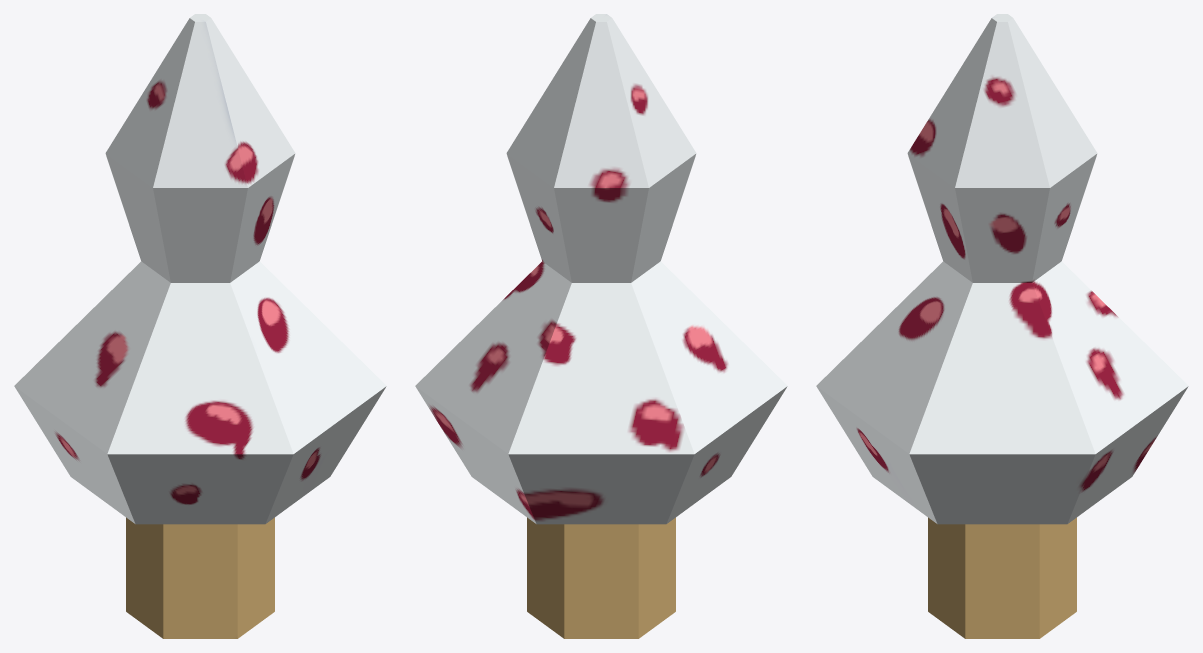
The model's file is Congumelo 2.fbx.
The picture shows the model from 3 angles, left to right: view 1: azimuth 30°, elevation 25°; view 2: azimuth 150°, elevation 25°; view 3: azimuth 270°, elevation 25°; orthographic projection.
Visible parts, largest first — view 1: 5. Mushroom 2; view 2: 5. Mushroom 2; view 3: 5. Mushroom 2.
Boxes of the visible parts, box(x1,y1,x2,y2) form: 5. Mushroom 2: box(14, 14, 386, 638); 5. Mushroom 2: box(415, 14, 787, 638); 5. Mushroom 2: box(816, 14, 1188, 638).
Size of the model in its own units: 60 by 122 by 69.28.
